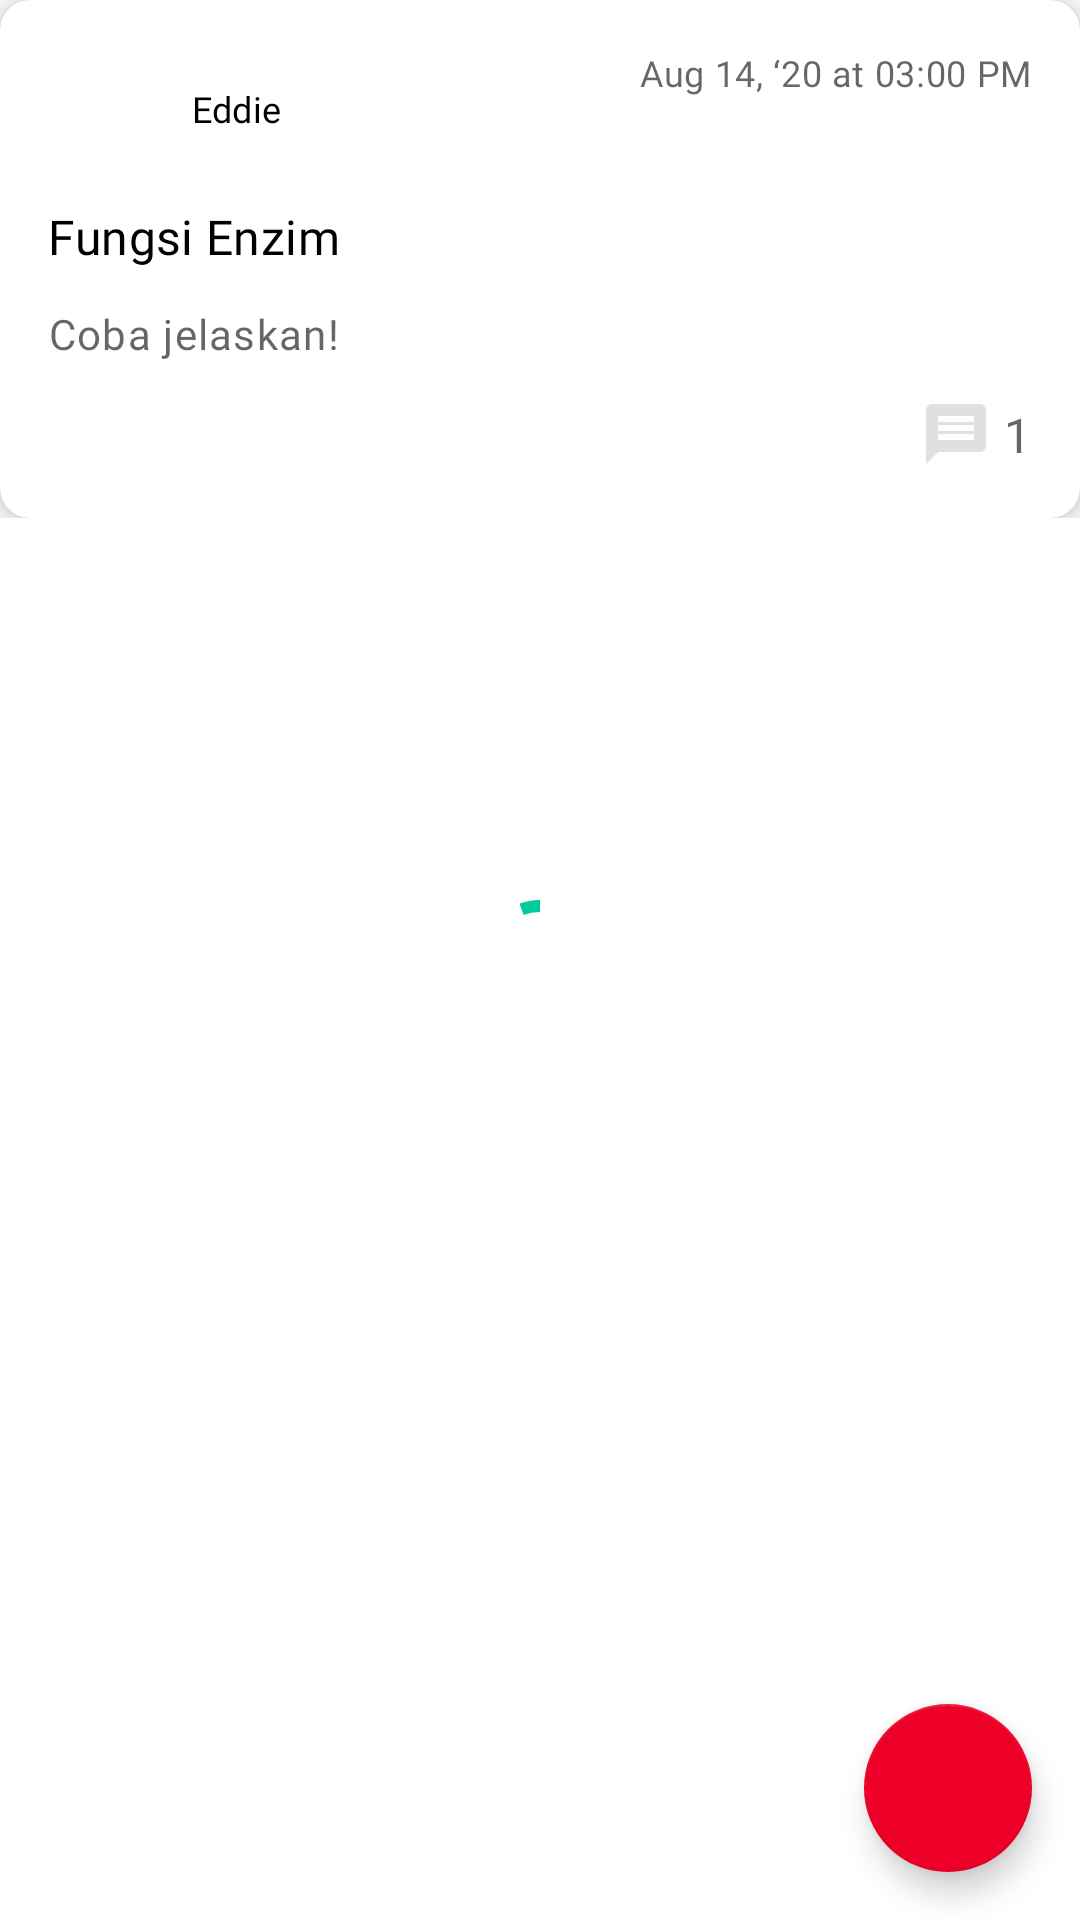

Where to tap for icons on this 1080x1920 app screen, as point (x, y):
message: point (956, 433)
